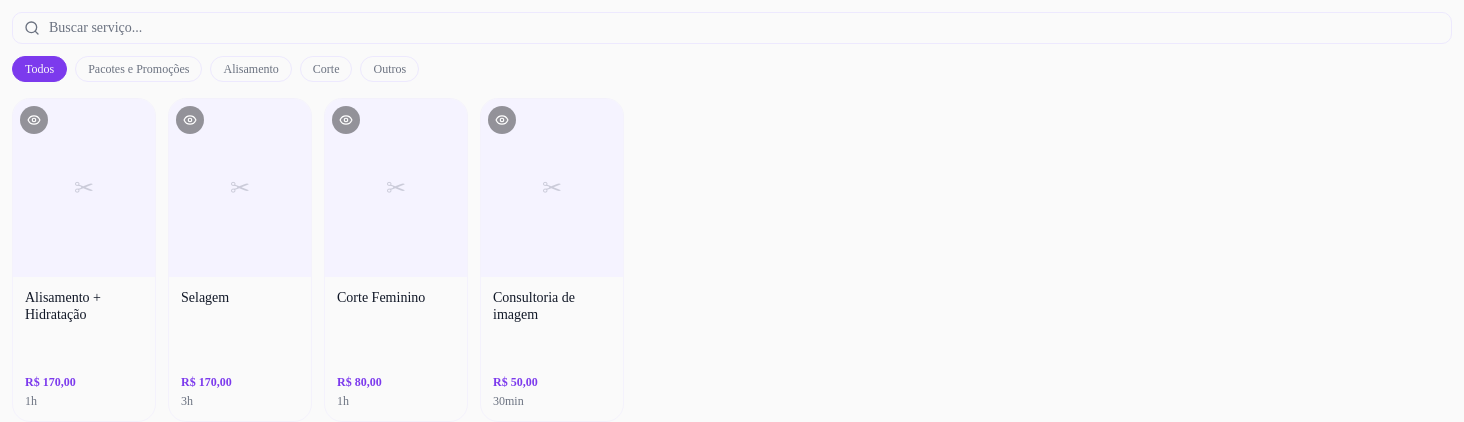
ServicePickerWithCategories › chip "Pacotes e Promoções" mostra só pacotes e promoções juntos, sem serviços avulsos
Click the button "Pacotes e Promoções" at (139, 69), box [75,56,202,82]
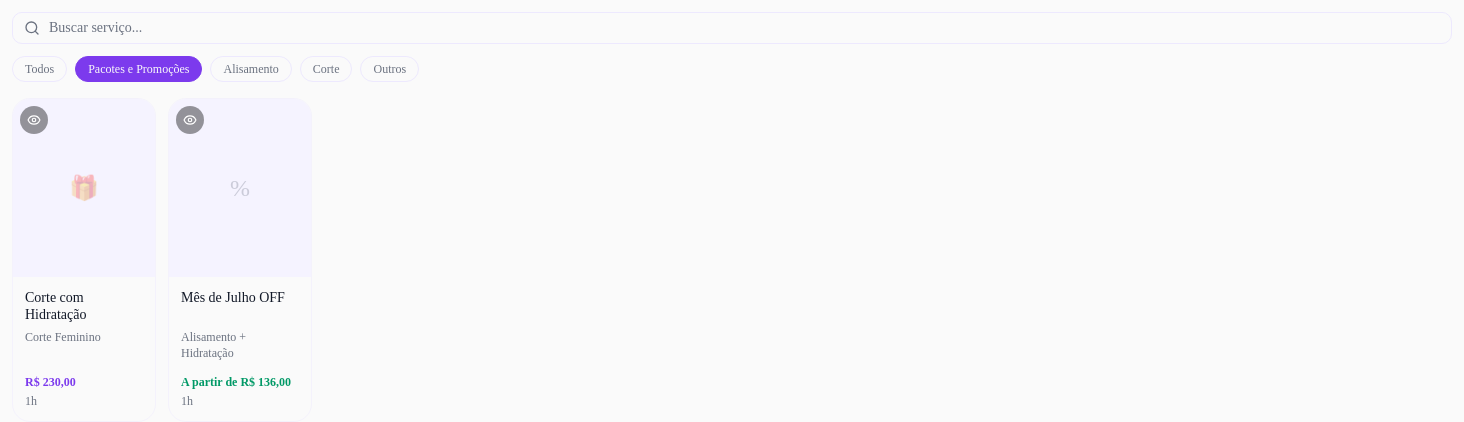
Now the text "Corte com Hidratação" is shown, box [25,290,86,322]
Now the text "Mês de Julho OFF" is shown, box [181,288,299,306]
Now the button "Selagem" is gone
